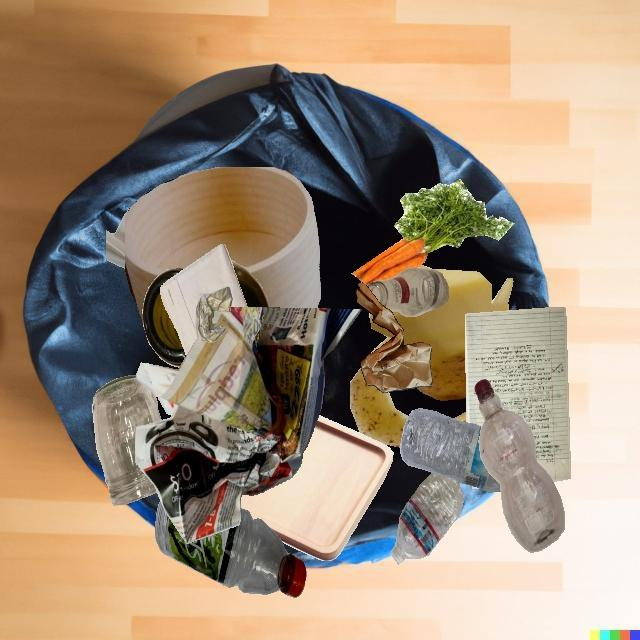biowaste: (351, 179, 514, 286), (414, 278, 513, 400), (369, 335, 454, 428)
combustible waste: (125, 167, 320, 323), (240, 415, 393, 561)
glass: (92, 375, 162, 505), (142, 268, 186, 367), (367, 267, 449, 317), (230, 259, 269, 307)
paper: (135, 307, 362, 544), (465, 307, 571, 482), (160, 244, 247, 356), (356, 283, 433, 393), (195, 286, 232, 343), (106, 208, 129, 269)
plastic: (474, 379, 565, 553), (155, 500, 307, 598), (401, 408, 501, 492), (392, 472, 463, 564)
